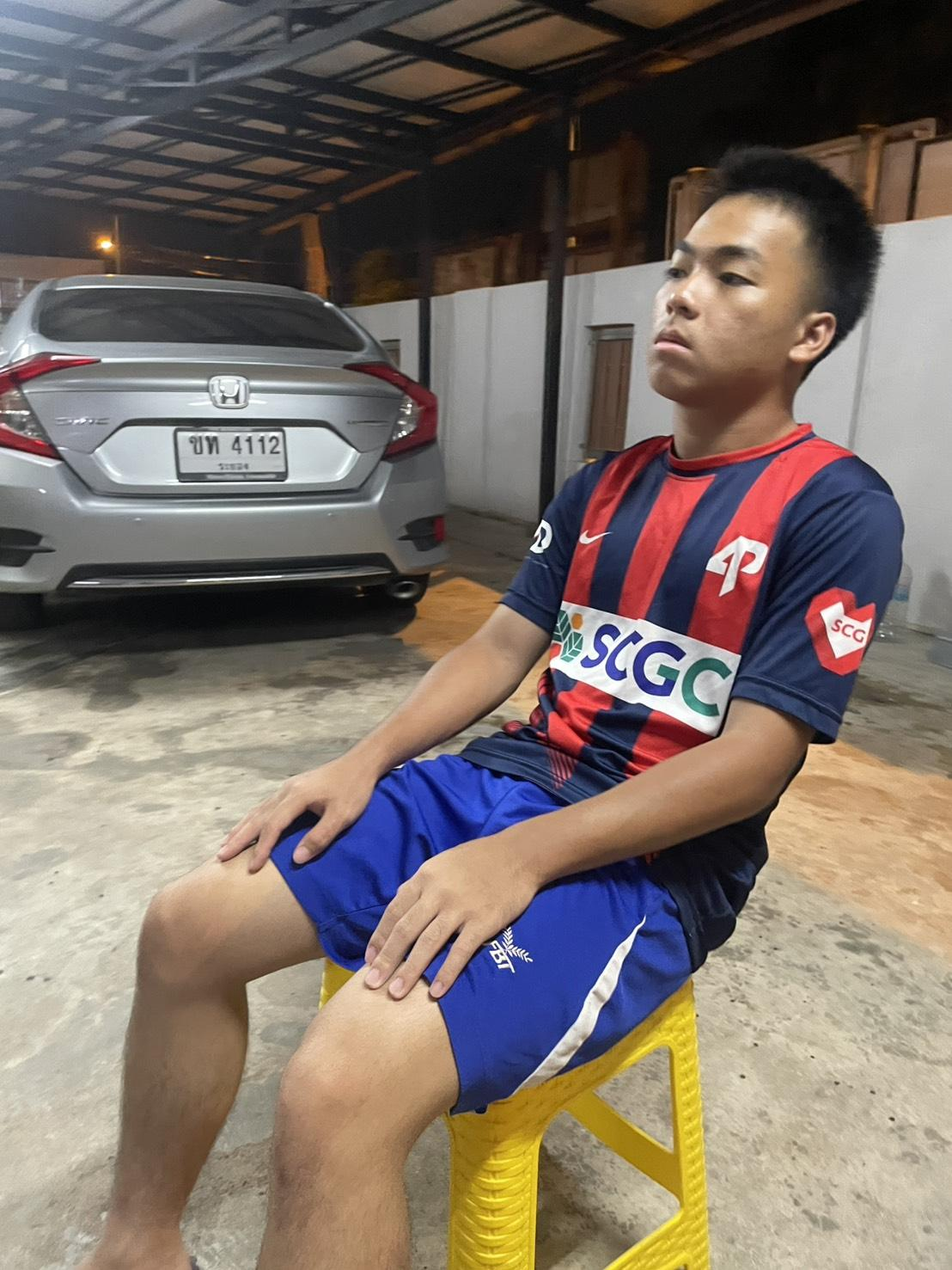BadPosture: (82, 148, 901, 1269)
